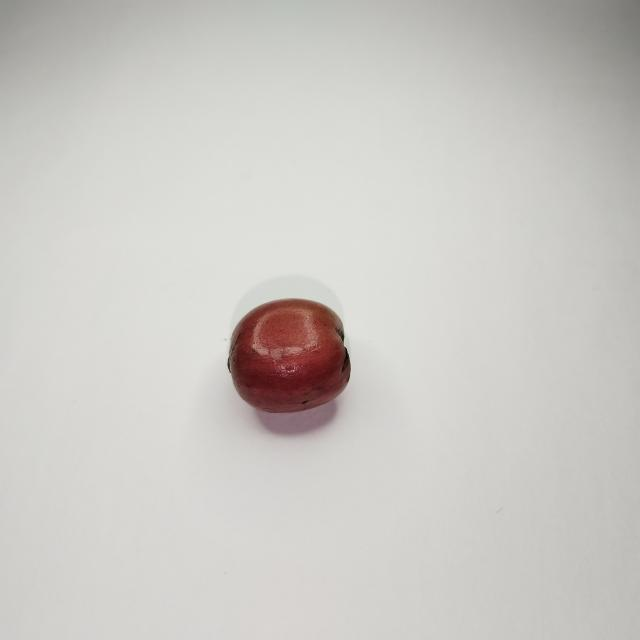Sano: (229, 299, 348, 410)
